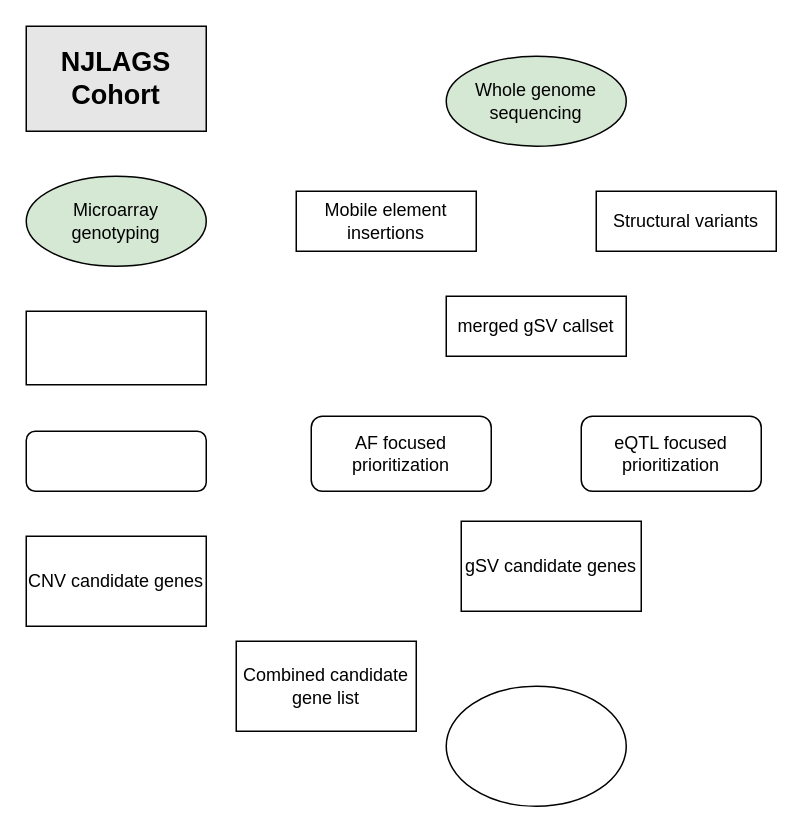
Some shapes in this 803 by 833 pixel diagram are drawn without their labels. The shapes that lost their labels are listed below. From the top down, each one's centre as x and y in pixels, then its label:
At (x=115, y=347): "Copy number variant callset".
At (x=115, y=460): "CNV prioritization".
At (x=535, y=745): "Analysis".
